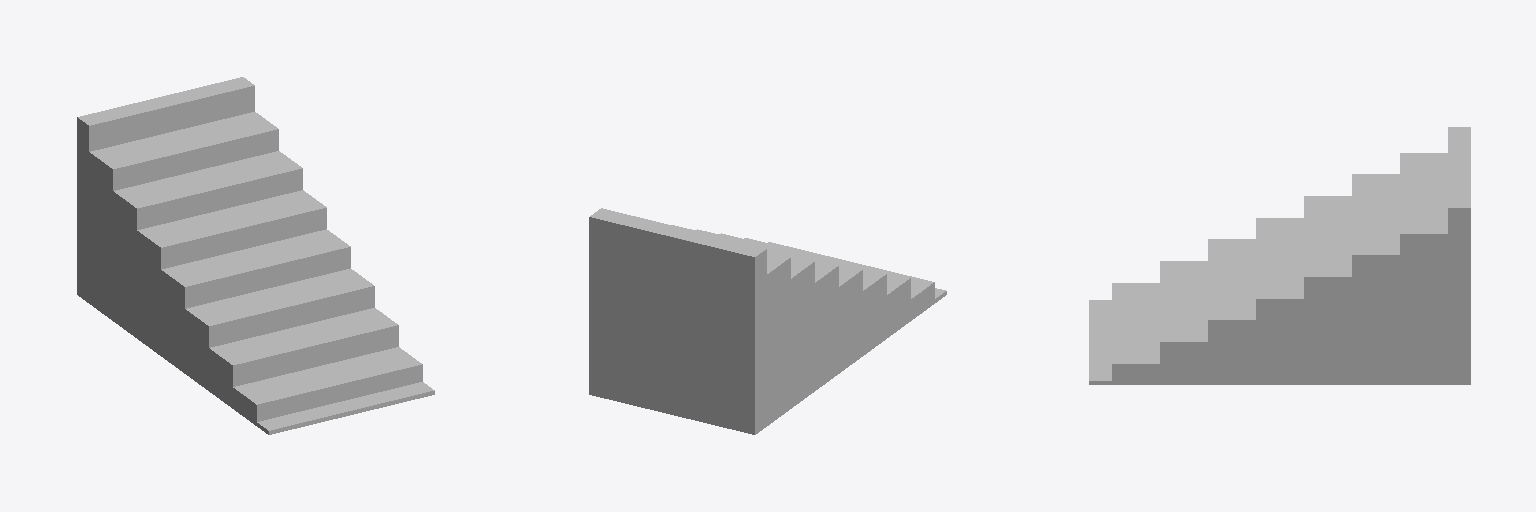
File: 1_floor_steps_straight.obj
The picture shows the model from 3 angles: view 1: azimuth 30°, elevation 25°; view 2: azimuth 150°, elevation 25°; view 3: azimuth 270°, elevation 25°; orthographic projection.
Parts seen in each view (by area): view 1: object1; view 2: object1; view 3: object1.
Boxes of the visible parts, x1=… form: object1: x1=77, y1=77, x2=434, y2=434; object1: x1=589, y1=208, x2=946, y2=434; object1: x1=1089, y1=127, x2=1470, y2=384.
Size of the model in its own units: 1 by 1.02 by 2.